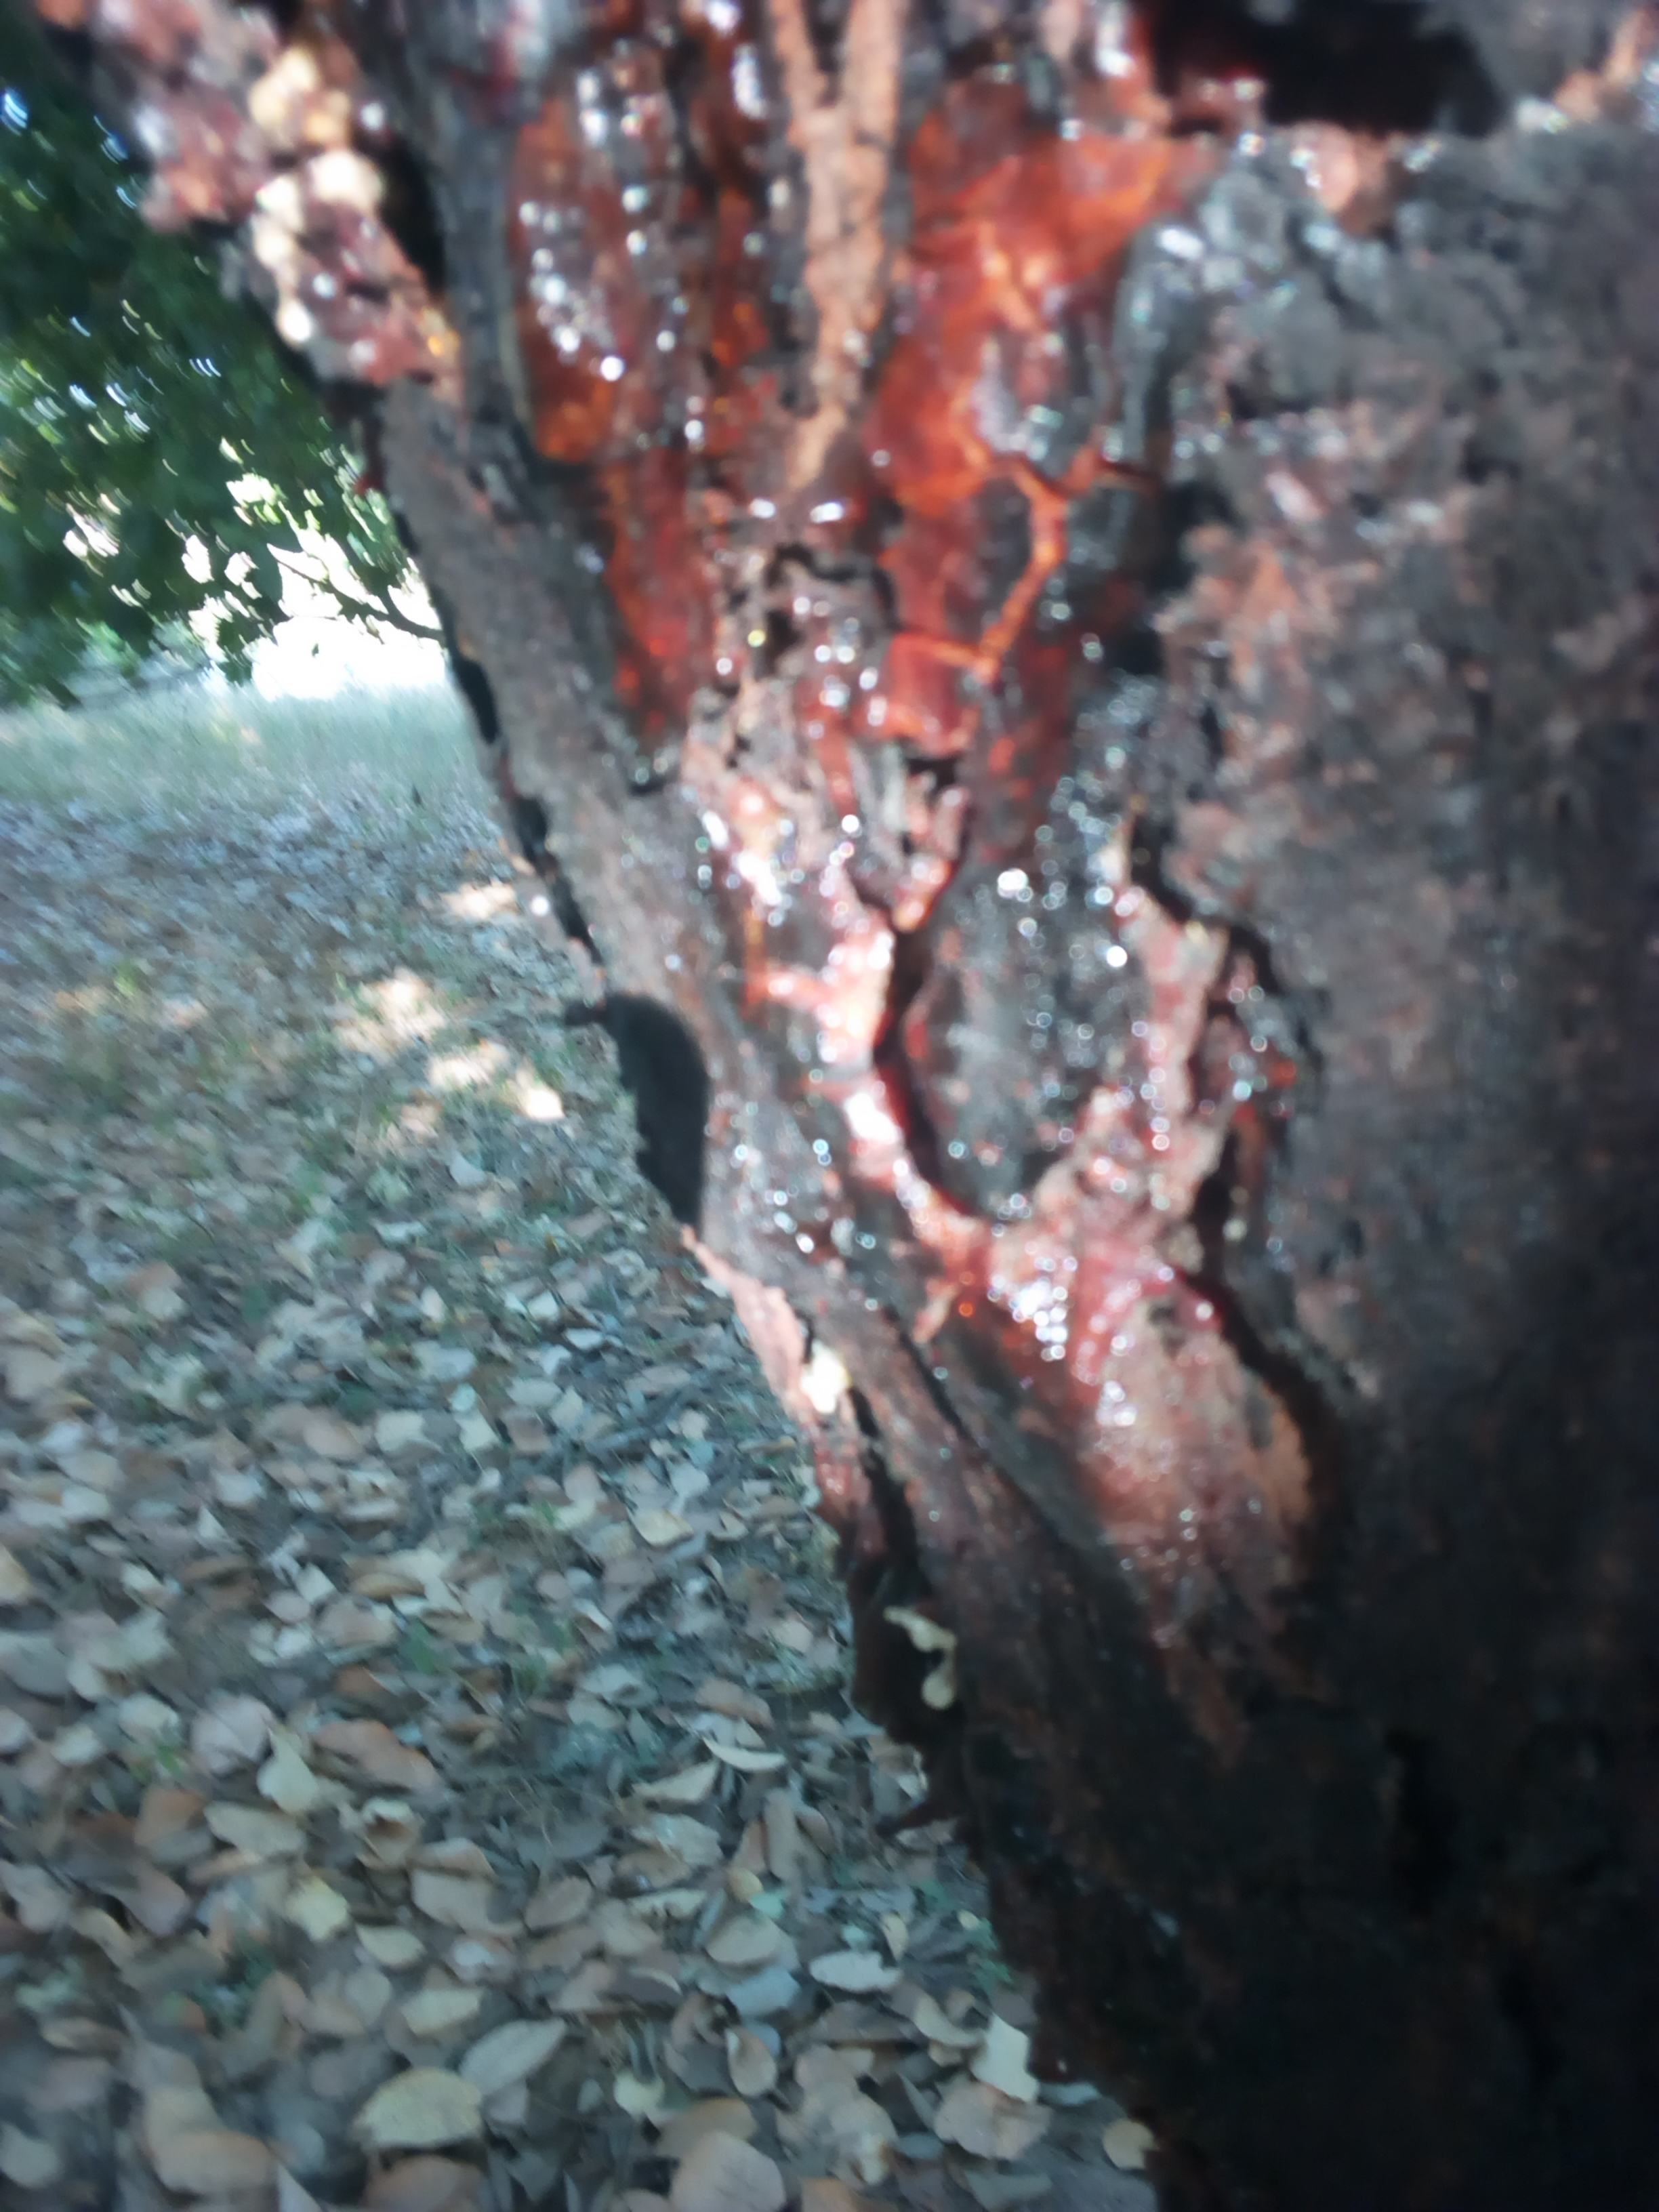Gommose: (511, 5, 1626, 1672)
